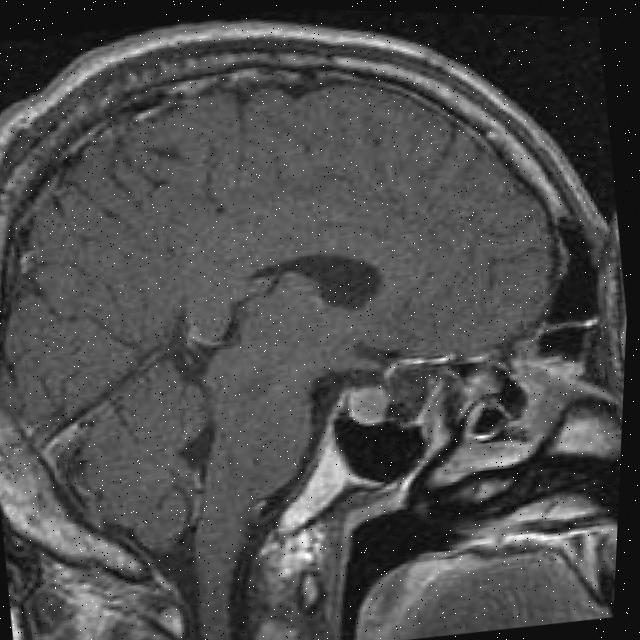Pituitary: (343, 382, 396, 427)
